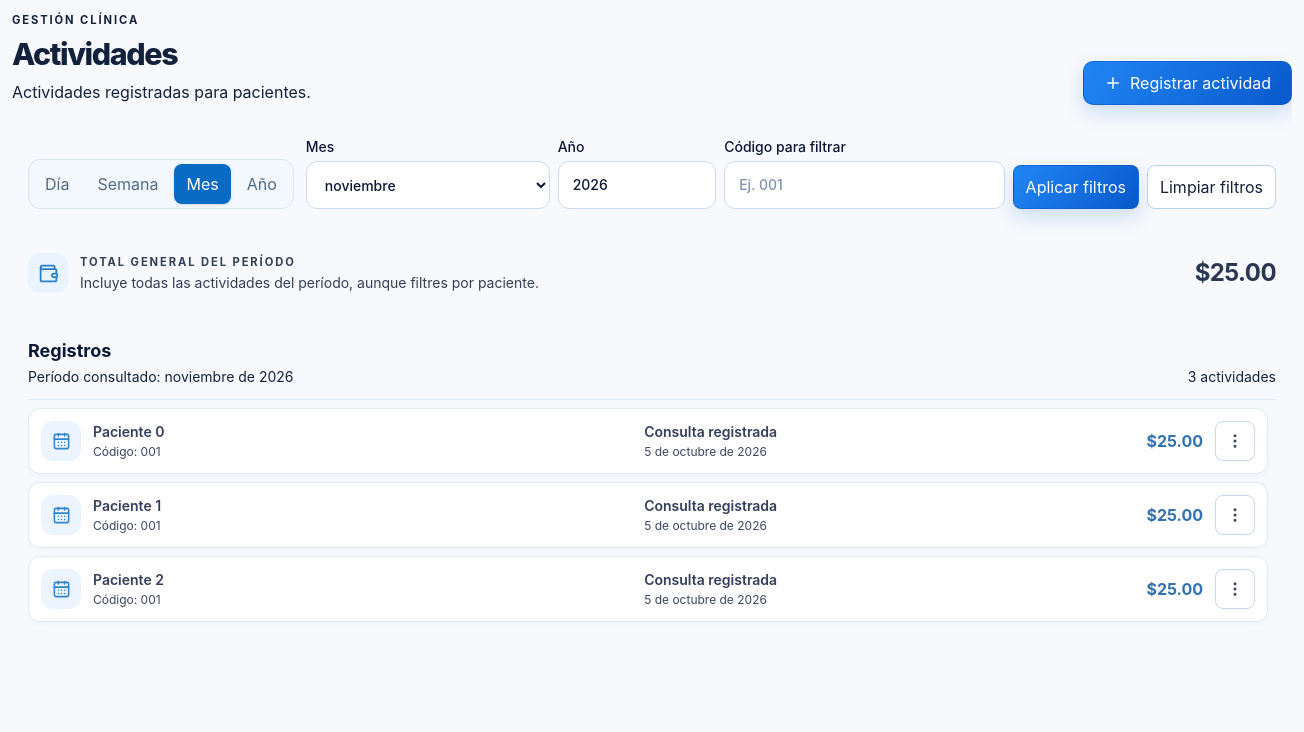
Scenario: ActivitiesPage › keeps first and last action menus outside the scrolling list and closes on outside click
Later steps or results of the test are not shown.
Check: the text "Paciente 0" is shown, box [93,423,164,440]
Click the button named "Opciones de actividad para Paciente 0". click: coordinates (1235, 441)
box: [1215,421,1255,461]
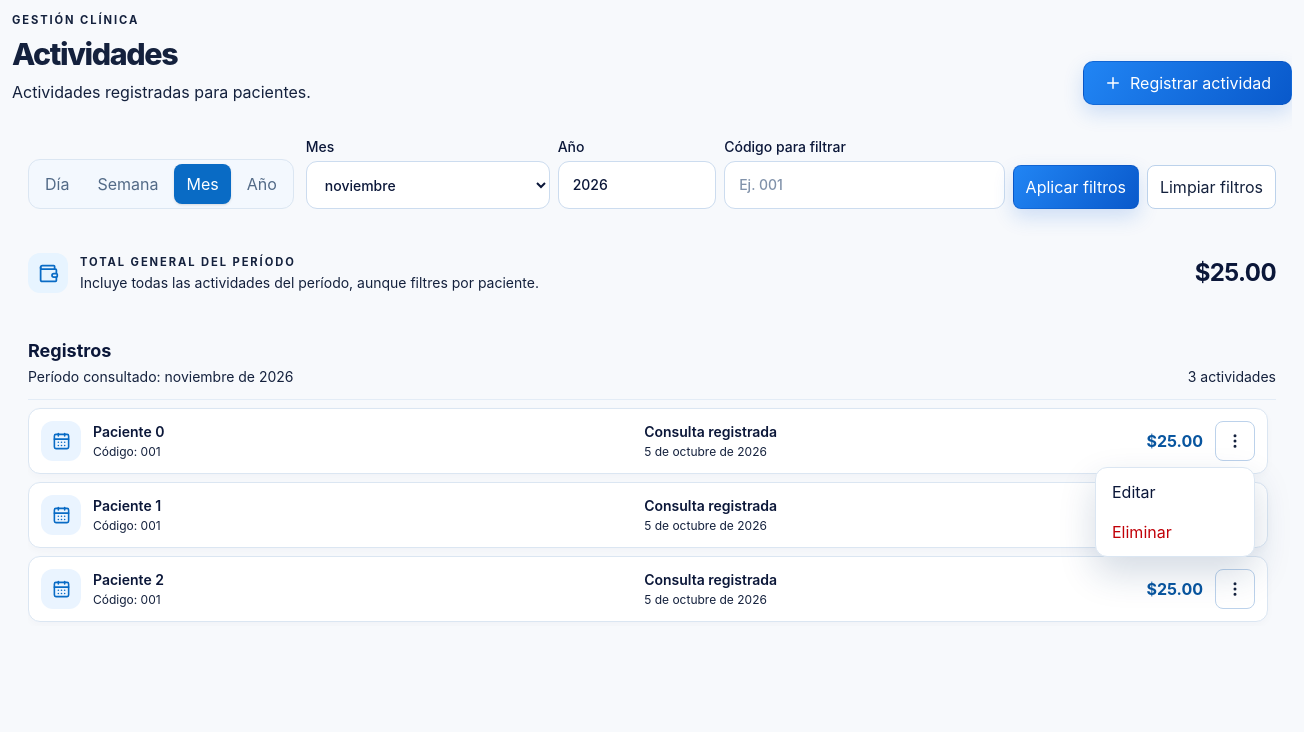
Press the mouse on the heading "Actividades" at coordinates (95, 54), box [12,36,177,72]
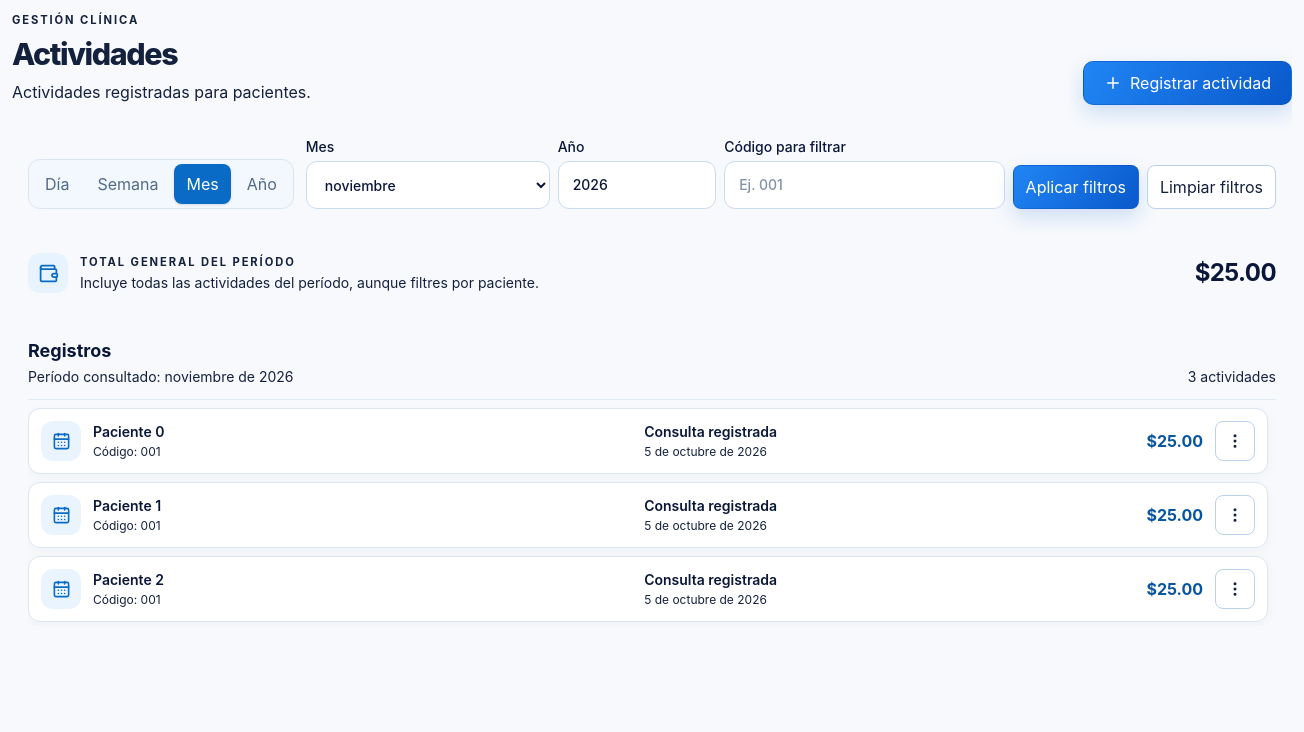
Check: the menu is gone
